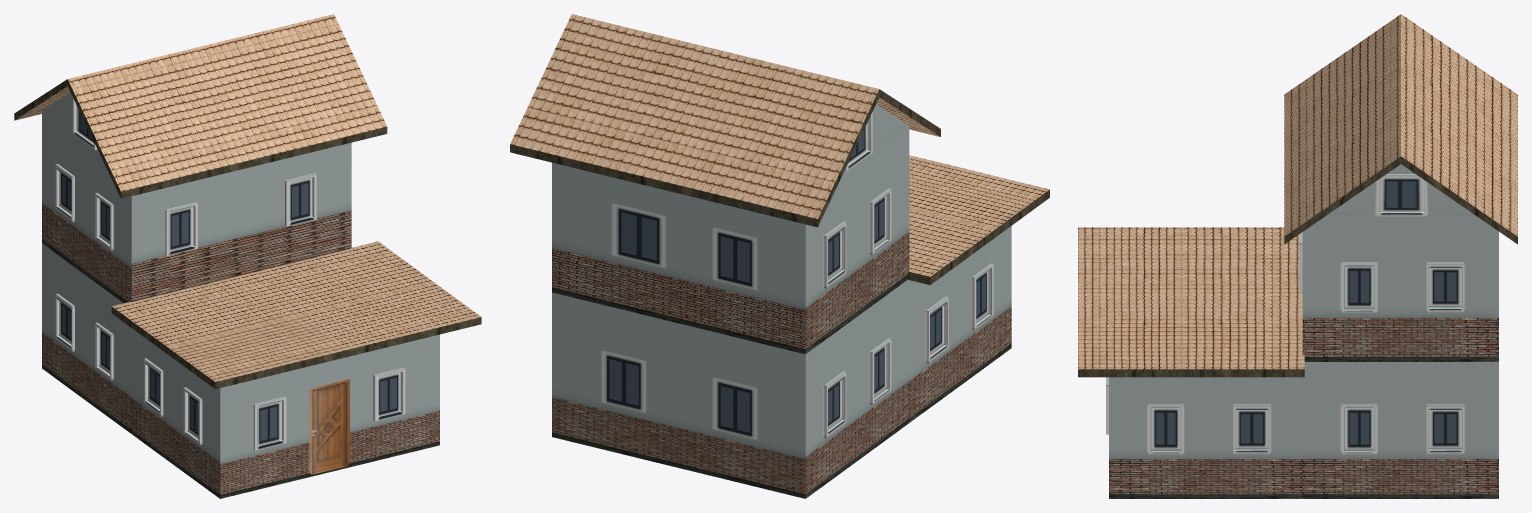
Rendered from BAT1_SETA_HOUSE9.fbx.
The picture shows the model from 3 angles, left to right: view 1: azimuth 30°, elevation 25°; view 2: azimuth 150°, elevation 25°; view 3: azimuth 270°, elevation 25°; orthographic projection. The views are drawn at different scales.
Parts seen in each view (by area): view 1: _09; view 2: _09; view 3: _09.
Boxes of the visible parts, x1=… form: _09: x1=14, y1=14, x2=481, y2=498; _09: x1=510, y1=14, x2=1049, y2=498; _09: x1=1078, y1=14, x2=1517, y2=498.
Bounding box in the file's own units: 40.43 × 47.4 × 52.83.
1 material, 1 textured.
